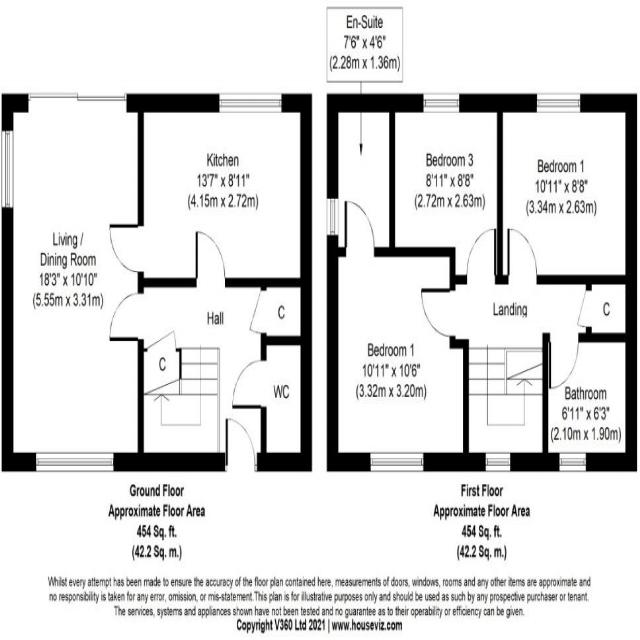DOOR: (223, 417, 258, 472), (343, 200, 376, 258), (108, 222, 144, 274), (465, 227, 497, 285), (231, 358, 267, 409), (195, 232, 227, 288), (109, 290, 144, 341), (548, 332, 579, 389), (507, 228, 538, 285), (420, 289, 456, 338)
ROOM: (0, 93, 144, 474), (108, 91, 312, 286), (326, 200, 469, 472), (497, 93, 637, 285), (389, 93, 504, 291), (542, 333, 637, 472)
SLIDING DOOR: (25, 91, 128, 113)
WINDOW: (35, 452, 115, 473), (218, 91, 283, 114), (369, 451, 424, 473), (1, 129, 14, 208), (535, 92, 581, 114), (422, 92, 460, 114), (557, 451, 587, 473), (484, 451, 511, 473), (326, 197, 339, 236)
